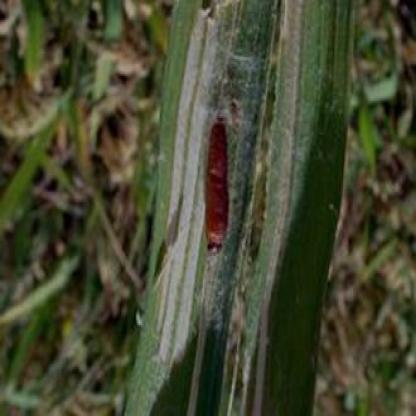leaf-folder: (191, 108, 249, 263)
